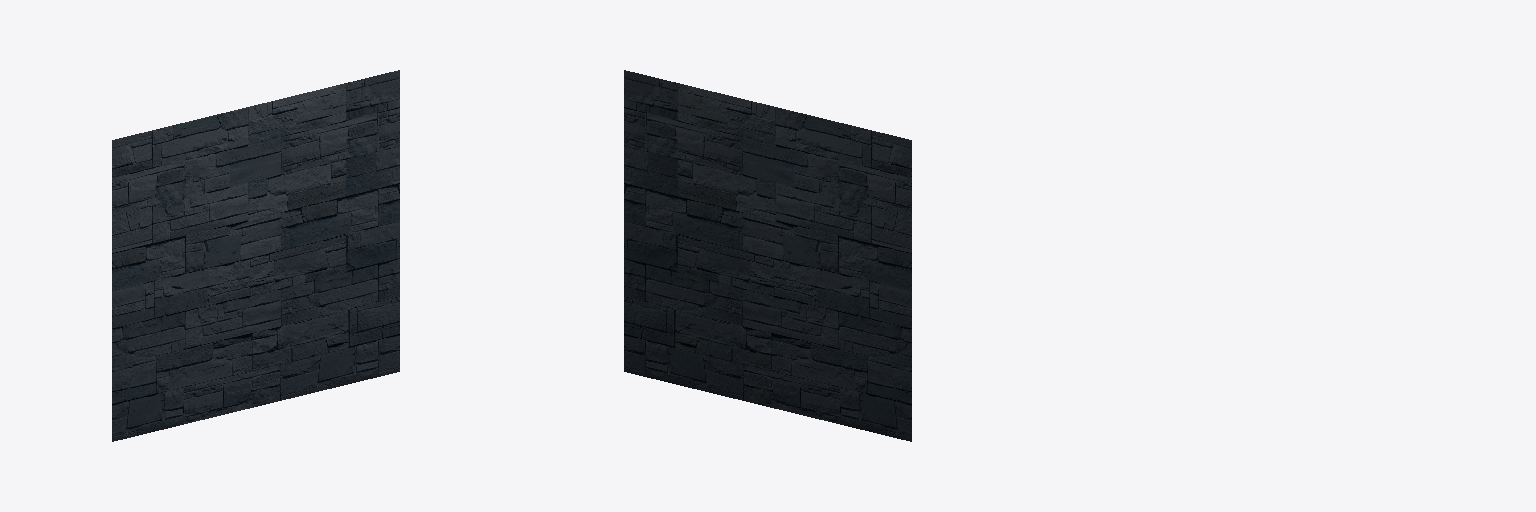
3 renders of one model, left to right at view 1: azimuth 30°, elevation 25°; view 2: azimuth 150°, elevation 25°; view 3: azimuth 270°, elevation 25°, orthographic.
Visible parts, largest first — view 1: pPlane1; view 2: pPlane1; view 3: none.
Boxes of the visible parts, box(x1,y1,x2,y2) form: pPlane1: box(112, 70, 399, 441); pPlane1: box(624, 70, 911, 441).
Bounding box in the file's own units: 2.5 × 2.5 × 0.
Materials: 1 (1 with a texture image).